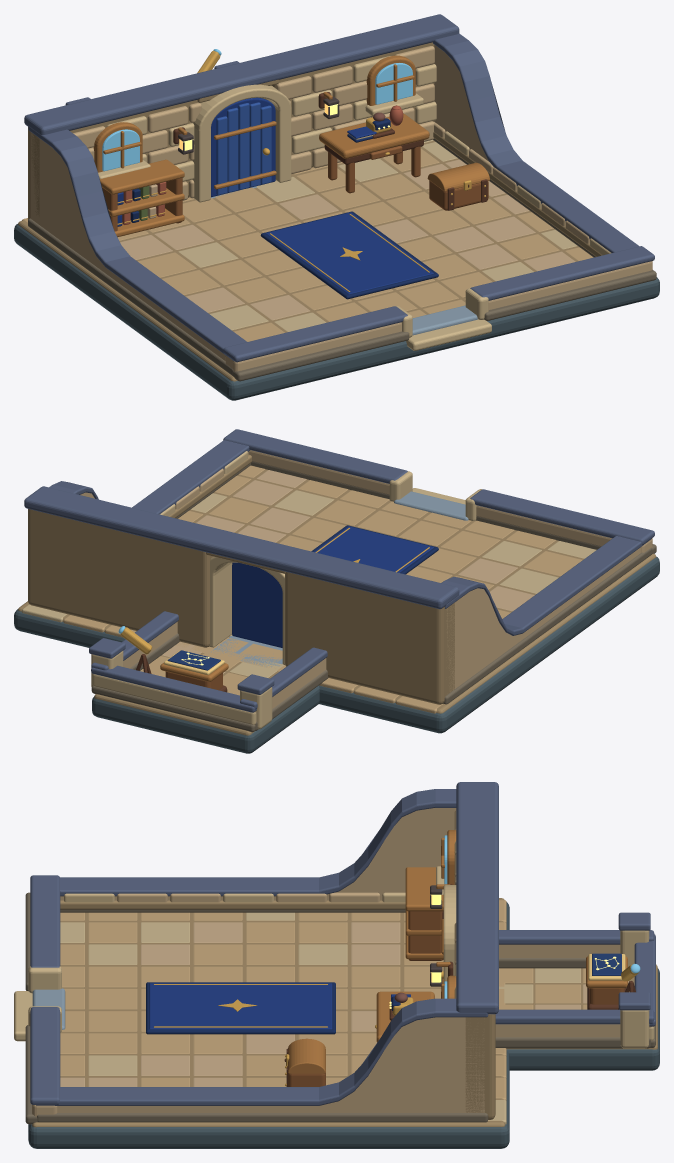
File: observatory-room.glb
3 renders of one model, top to bottom at view 1: azimuth 30°, elevation 25°; view 2: azimuth 150°, elevation 25°; view 3: azimuth 270°, elevation 25°, orthographic. The views are drawn at different scales.
Visible parts, largest first — view 1: Room_slate, Room_floor, Room_stone, Room_mortar, Room_base, Room_stone_light, Room_floor_warm, Room_wood_light, Room_blue, Room_stone_dark, Room_floor_pale, Gate_Inlay (+9 smaller); view 2: Room_mortar, Room_slate, Room_floor, Room_base, Room_stone, Room_stone_light, Room_stone_dark, Room_floor_warm, Room_floor_pale, Gate_Surface, Room_blue, Room_slate_light (+3 smaller); view 3: Room_slate, Room_floor, Room_stone, Room_mortar, Room_base, Room_stone_dark, Room_floor_warm, Room_blue, Room_floor_pale, Room_stone_light, Room_wood_light, Room_wood (+5 smaller).
Part boxes in pixels (x1,y1,x2,y2): Room_slate: (24,14,654,362); Room_floor: (22,148,593,341); Room_stone: (30,45,652,371); Room_mortar: (18,42,602,381); Room_base: (14,224,659,400); Room_stone_light: (98,56,611,350); Room_floor_warm: (120,159,575,320); Room_wood_light: (93,55,489,237); Room_blue: (117,126,433,294); Room_stone_dark: (28,138,656,381); Room_floor_pale: (178,134,577,331); Gate_Inlay: (216,102,271,195); Room_mortar: (18,454,656,735); Room_slate: (24,429,654,712); Room_floor: (63,465,582,713); Room_base: (14,556,659,753); Room_stone: (80,450,652,712); Room_stone_light: (91,451,481,729); Room_stone_dark: (91,461,656,732); Room_floor_warm: (162,470,534,673); Room_floor_pale: (22,490,596,677); Gate_Surface: (232,562,282,647); Room_blue: (314,526,433,572); Room_slate_light: (211,491,468,667); Room_slate: (30,782,655,1105); Room_floor: (60,900,628,1100); Room_stone: (32,808,651,1116); Room_mortar: (32,898,657,1127); Room_base: (28,902,659,1148); Room_stone_dark: (25,892,655,1124); Room_floor_warm: (60,922,587,1086); Room_blue: (149,983,410,1029); Room_floor_pale: (60,912,580,1124); Room_stone_light: (14,840,654,1048); Room_wood_light: (288,830,627,1073); Room_wood: (288,911,624,1086).
Size of the model in its own units: 10.4 by 3.02 by 12.29.
